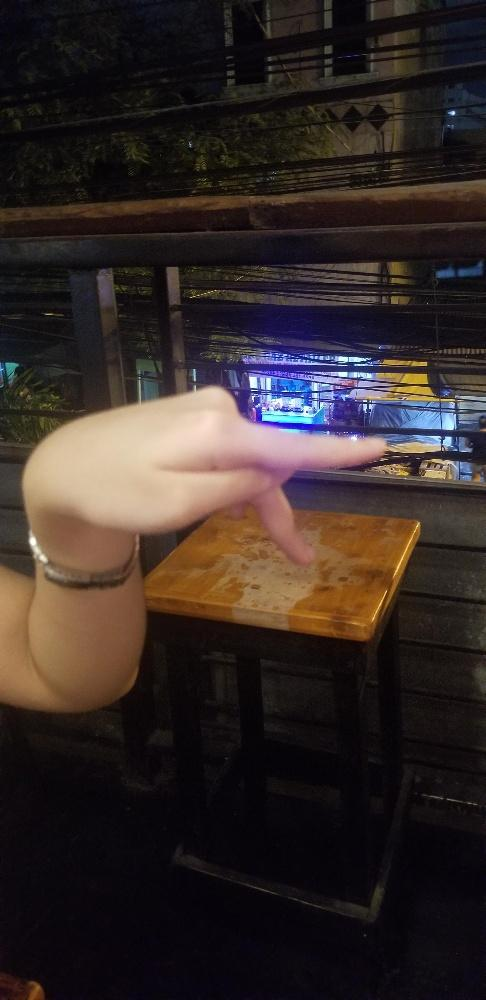p: (20, 384, 387, 566)
